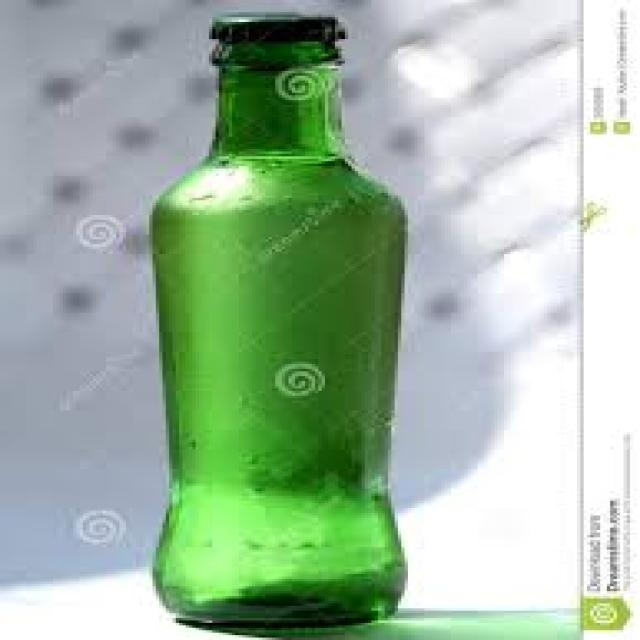glass: (146, 37, 404, 630)
metal: (209, 10, 335, 44)
